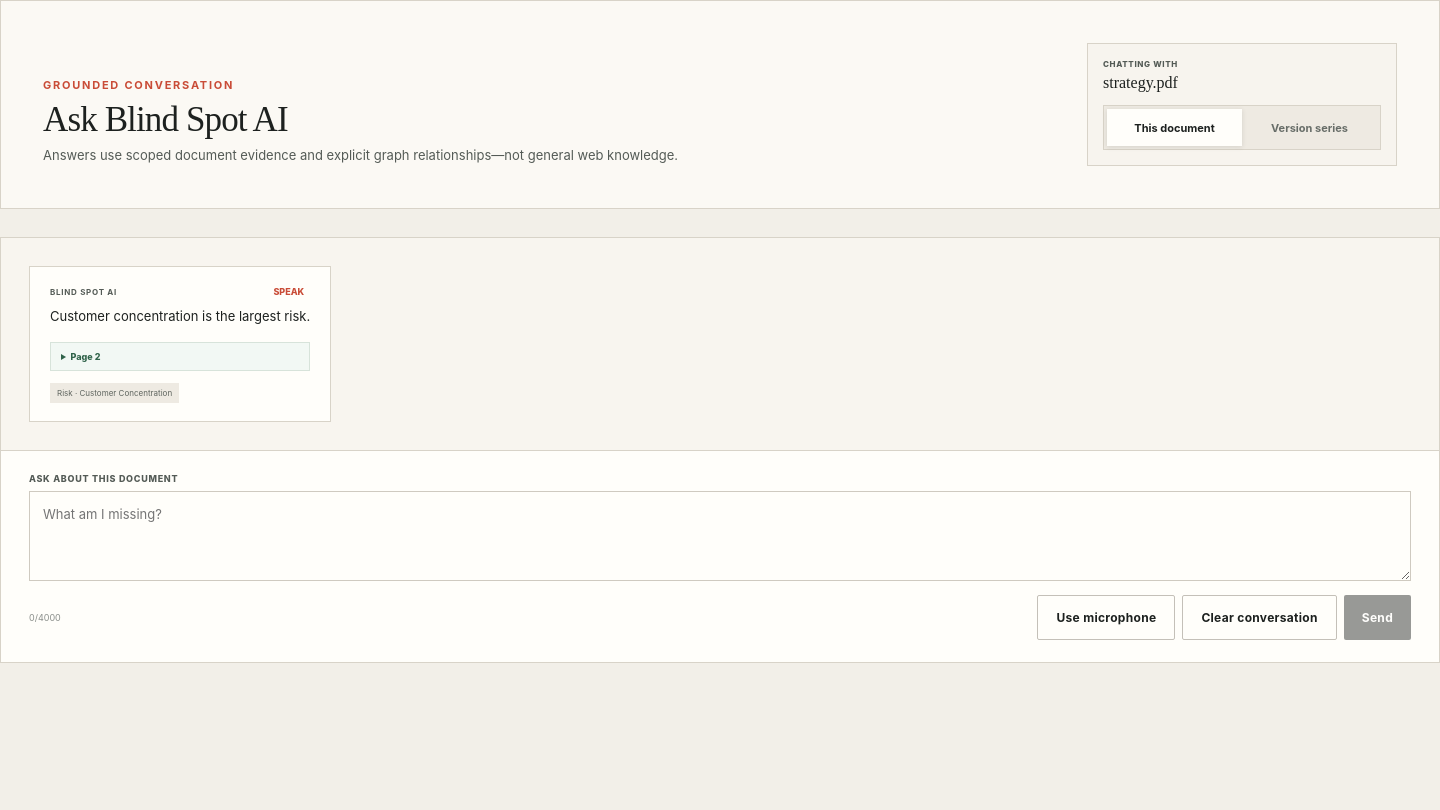
Test: grounded chat › starts and stops speech synthesis and displays safe backend errors
Click the button "Speak" at [289, 292], box [267,285,310,298]
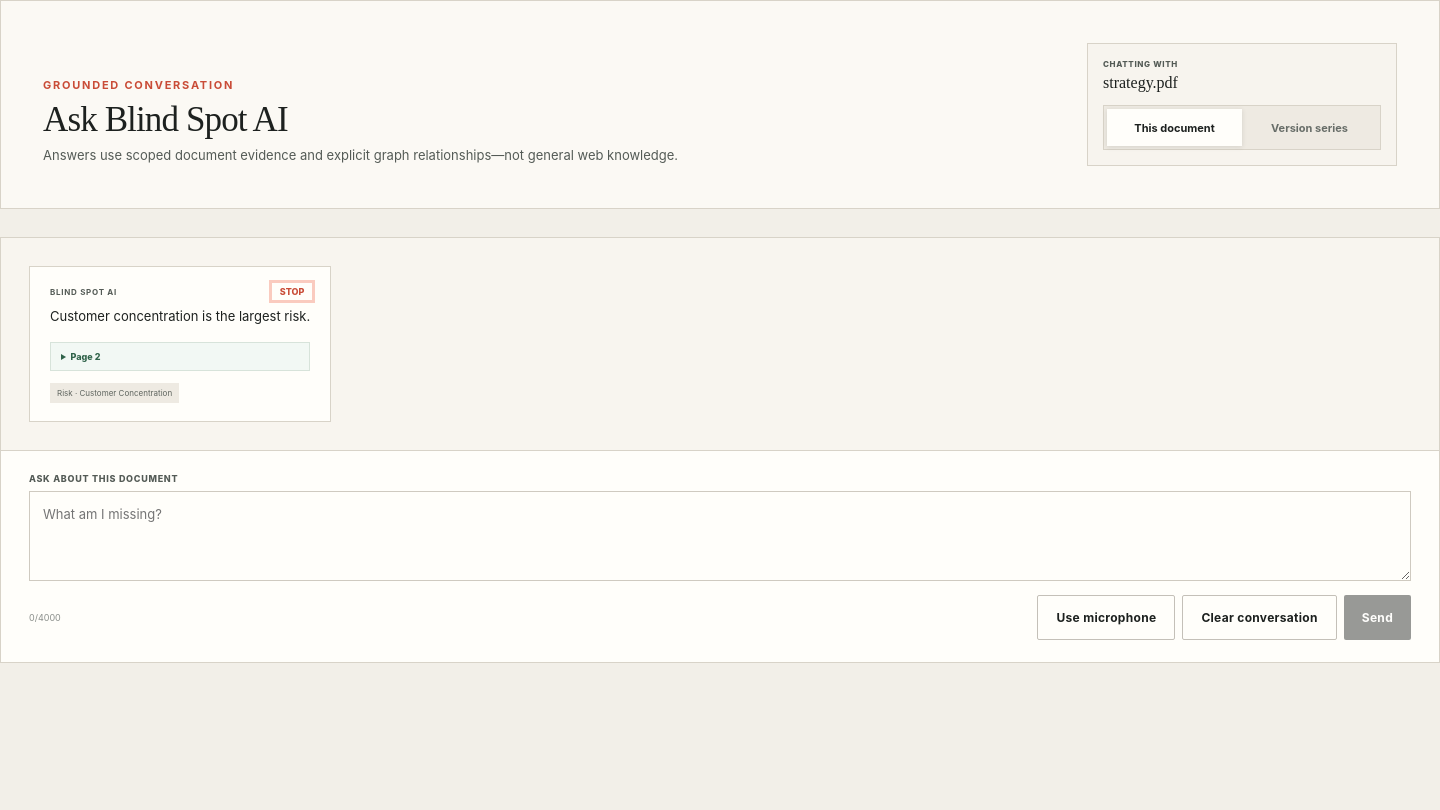
Click the button "Stop" at [292, 292], box [274,285,310,298]
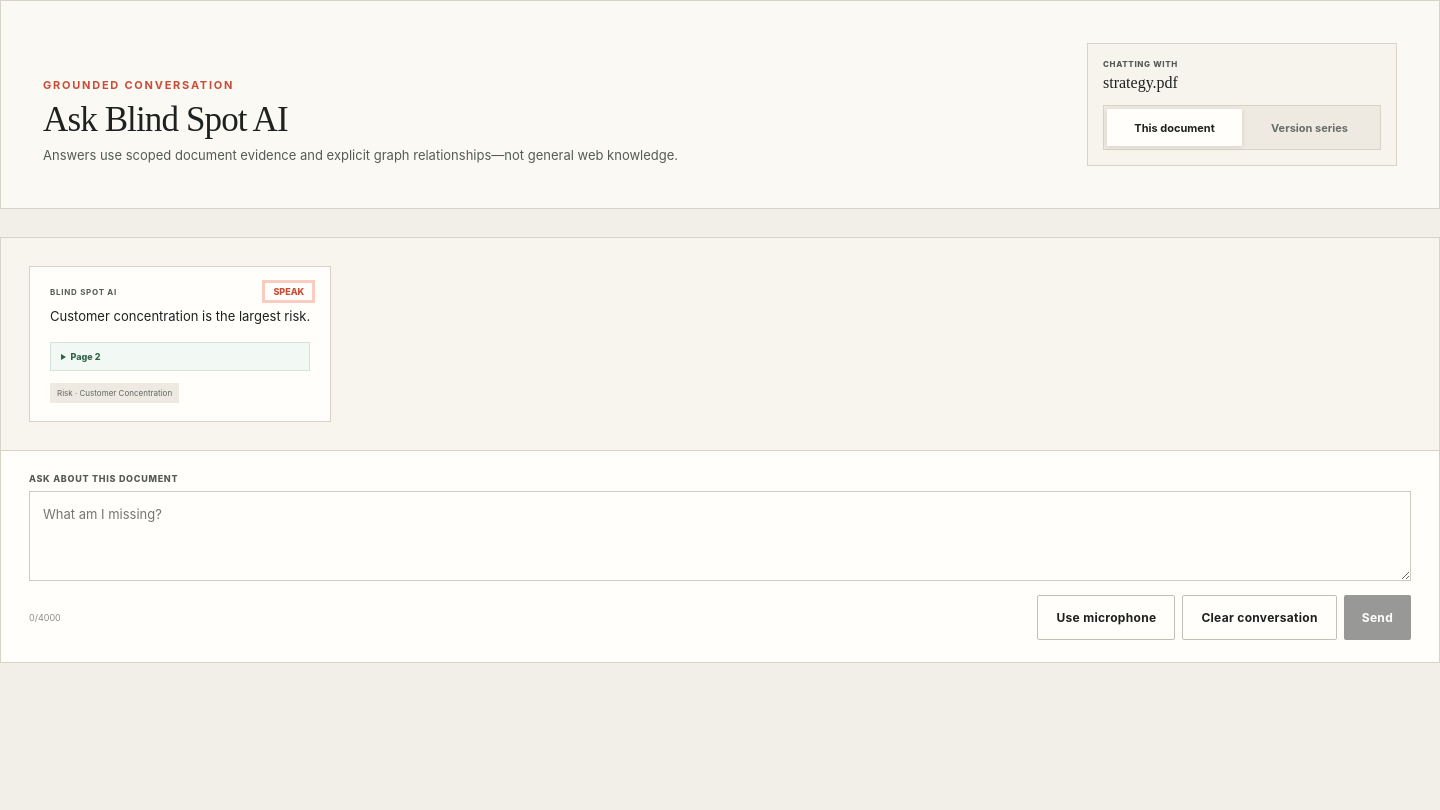
Type "Follow up" into the text box labelled "Ask about this document" at [720, 536], box [29,491,1411,581]
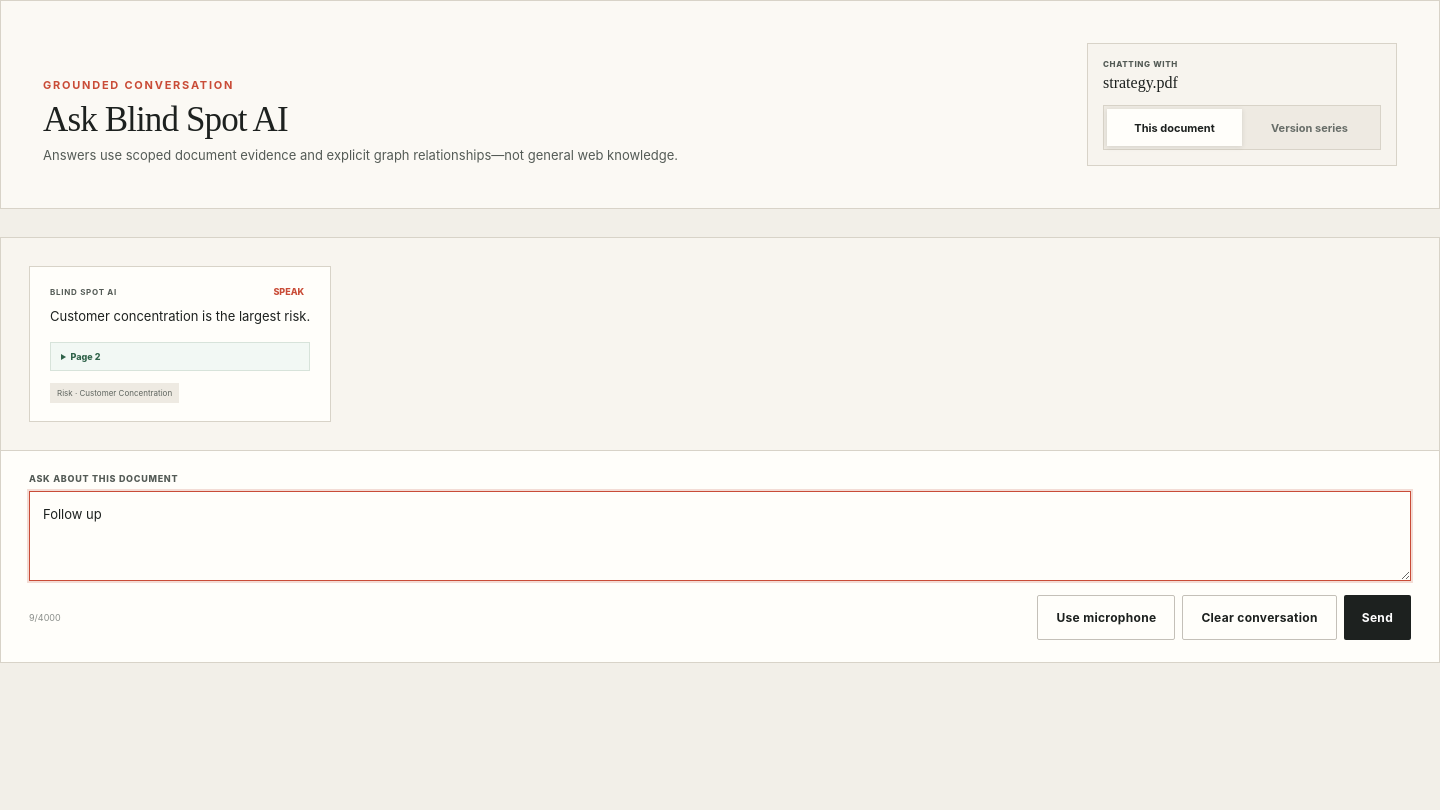
Click the button "Send" at [1377, 618], box [1344,595,1411,640]
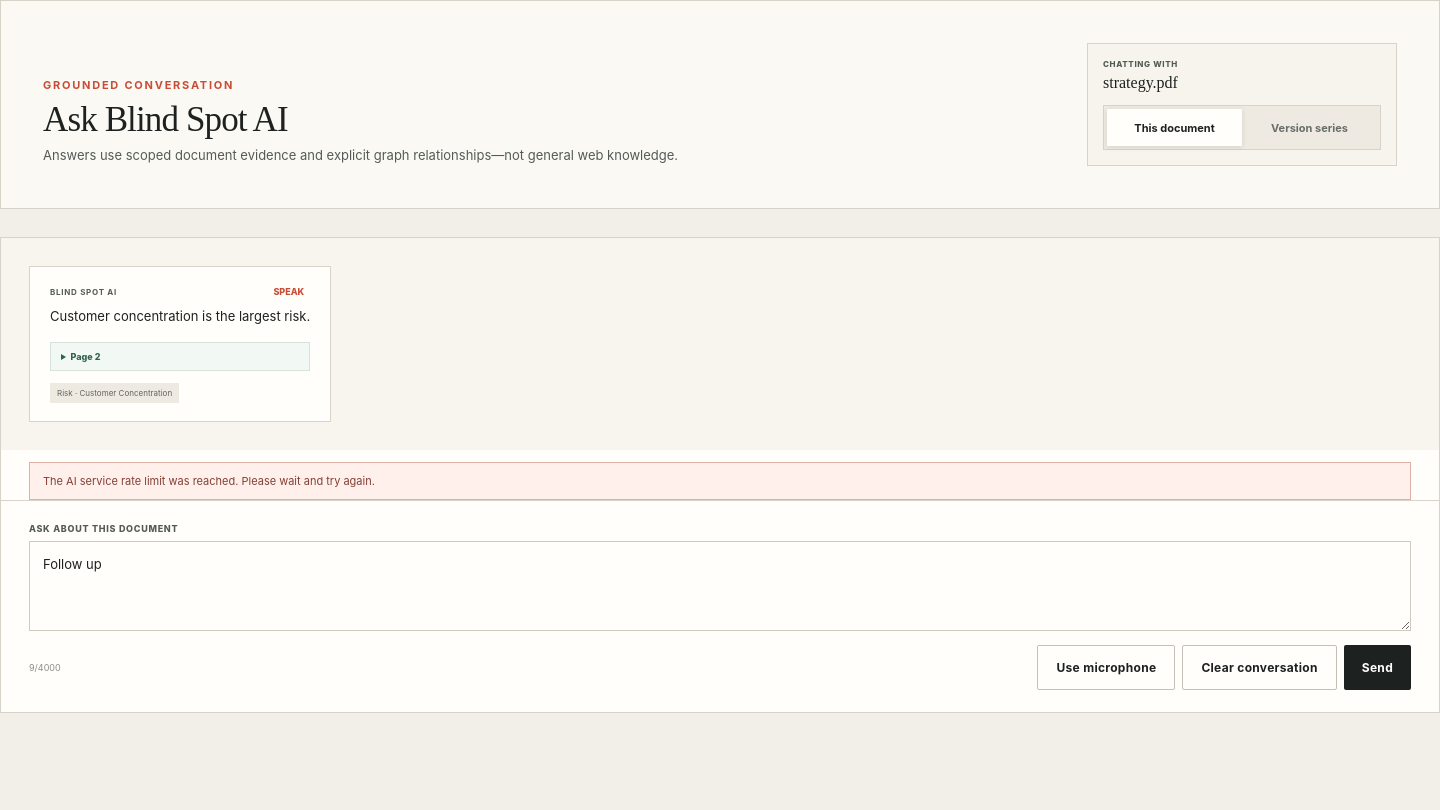
Expected: the message shows "rate limit was reached", [43,474,375,488]
